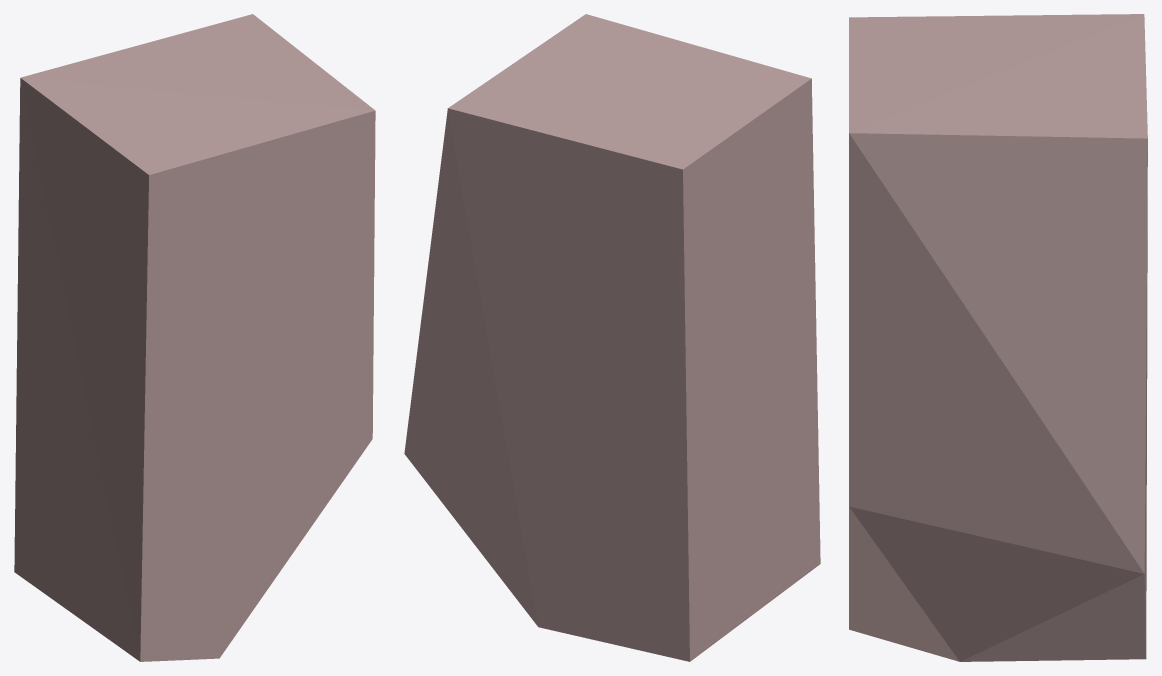
3 renders of one model, left to right at view 1: azimuth 30°, elevation 25°; view 2: azimuth 150°, elevation 25°; view 3: azimuth 270°, elevation 25°, orthographic. The views are drawn at different scales.
Size of the model in its own units: 5.24 by 8.87 by 4.11.
